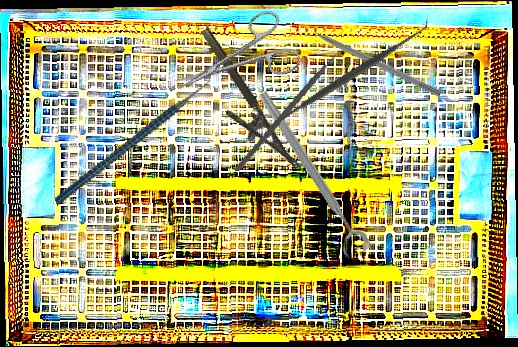Chopper: (29, 63, 239, 206), (234, 37, 353, 186)
Fixation Ring: (245, 87, 373, 263)
Iris Scissors: (163, 5, 304, 114)
Needle Holder: (181, 26, 301, 184)
Pusher: (296, 19, 443, 98)
Spatula Surgical: (259, 16, 438, 139)
